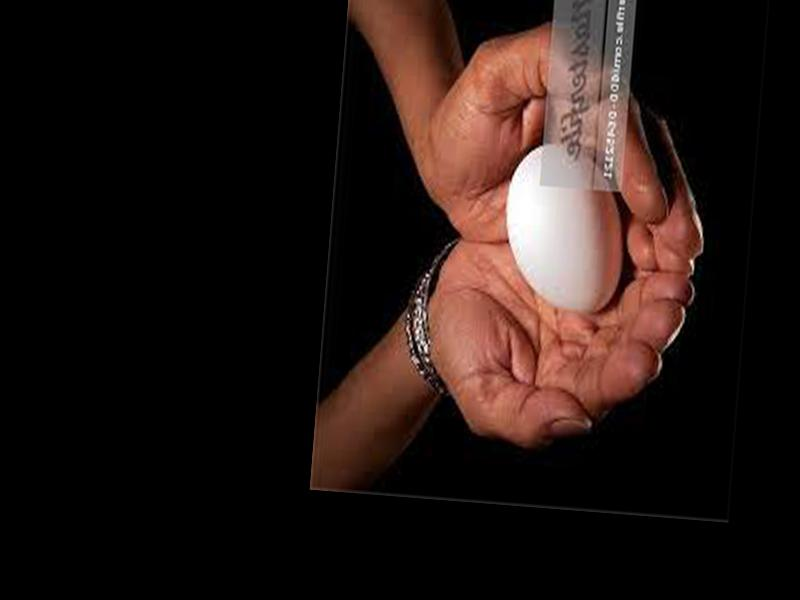Eggs: (500, 146, 632, 317)
